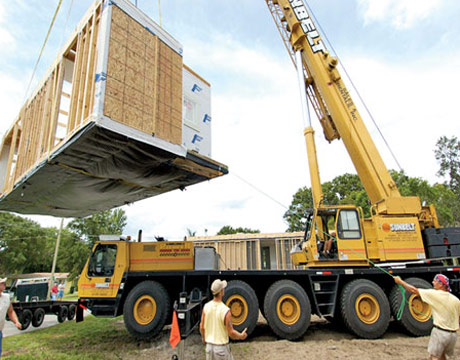crane: (68, 114, 459, 345)
